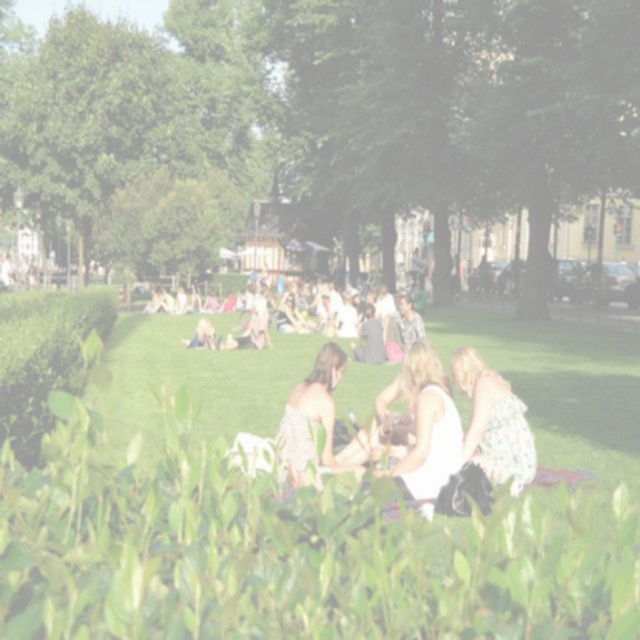pessoa: (360, 340, 464, 505), (272, 338, 370, 504), (448, 344, 538, 498), (332, 371, 418, 466), (280, 260, 358, 318), (215, 294, 275, 352), (217, 256, 276, 314), (129, 272, 200, 318), (380, 294, 428, 352), (348, 303, 388, 367), (362, 279, 428, 313), (467, 236, 498, 305), (0, 250, 41, 296), (275, 291, 316, 336), (330, 291, 360, 340), (179, 316, 218, 352), (372, 280, 395, 338), (314, 290, 338, 334), (403, 246, 422, 292), (200, 286, 222, 314), (350, 292, 368, 326), (416, 248, 428, 293), (86, 261, 95, 284)
